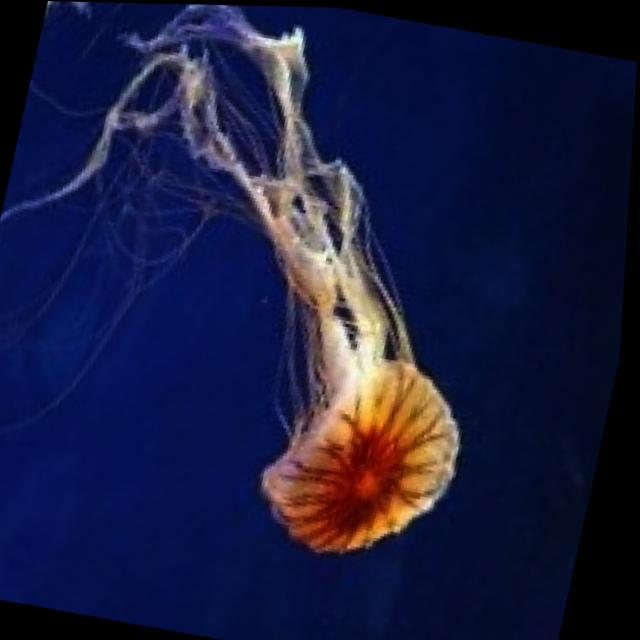Box-jellyfish: (0, 0, 552, 579)
